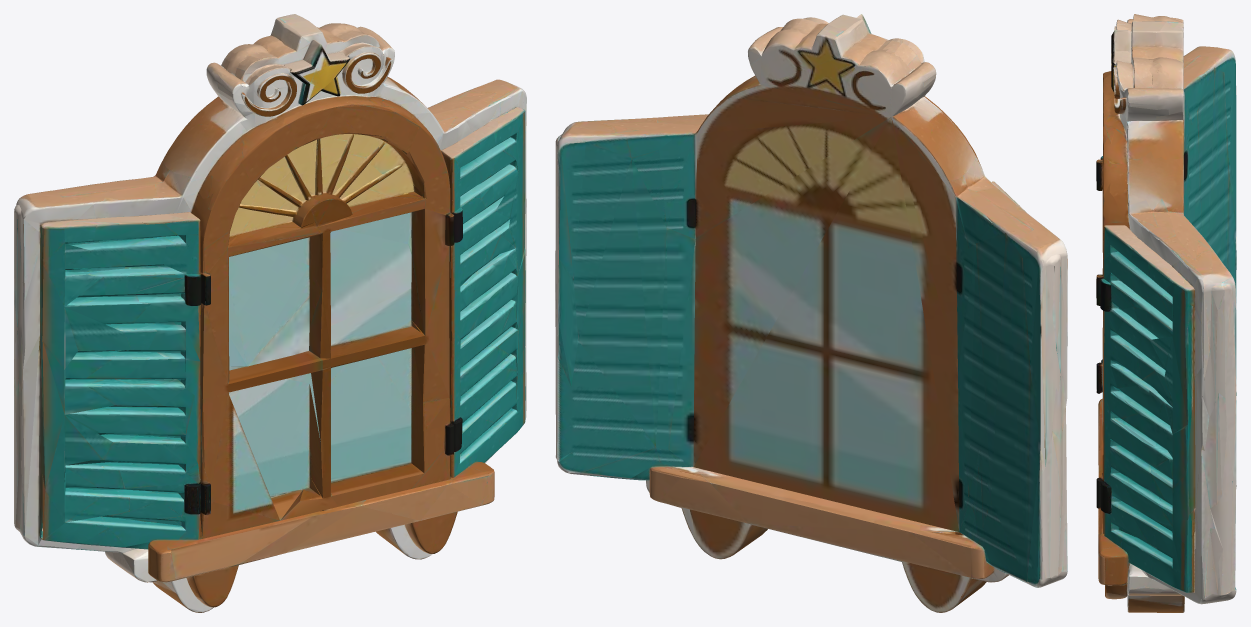
File: ventana.glb
The picture shows the model from 3 angles, left to right: view 1: azimuth 30°, elevation 25°; view 2: azimuth 150°, elevation 25°; view 3: azimuth 270°, elevation 25°; orthographic projection. The views are drawn at different scales.
Bounding box in the file's own units: 1.82 × 1.9 × 0.4532.
Materials: 1 (1 with a texture image).
